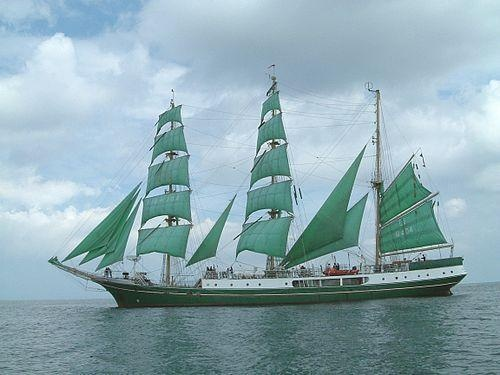fanchuan: (45, 61, 469, 309)
